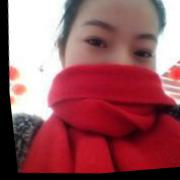WRONG: (49, 4, 169, 123)
